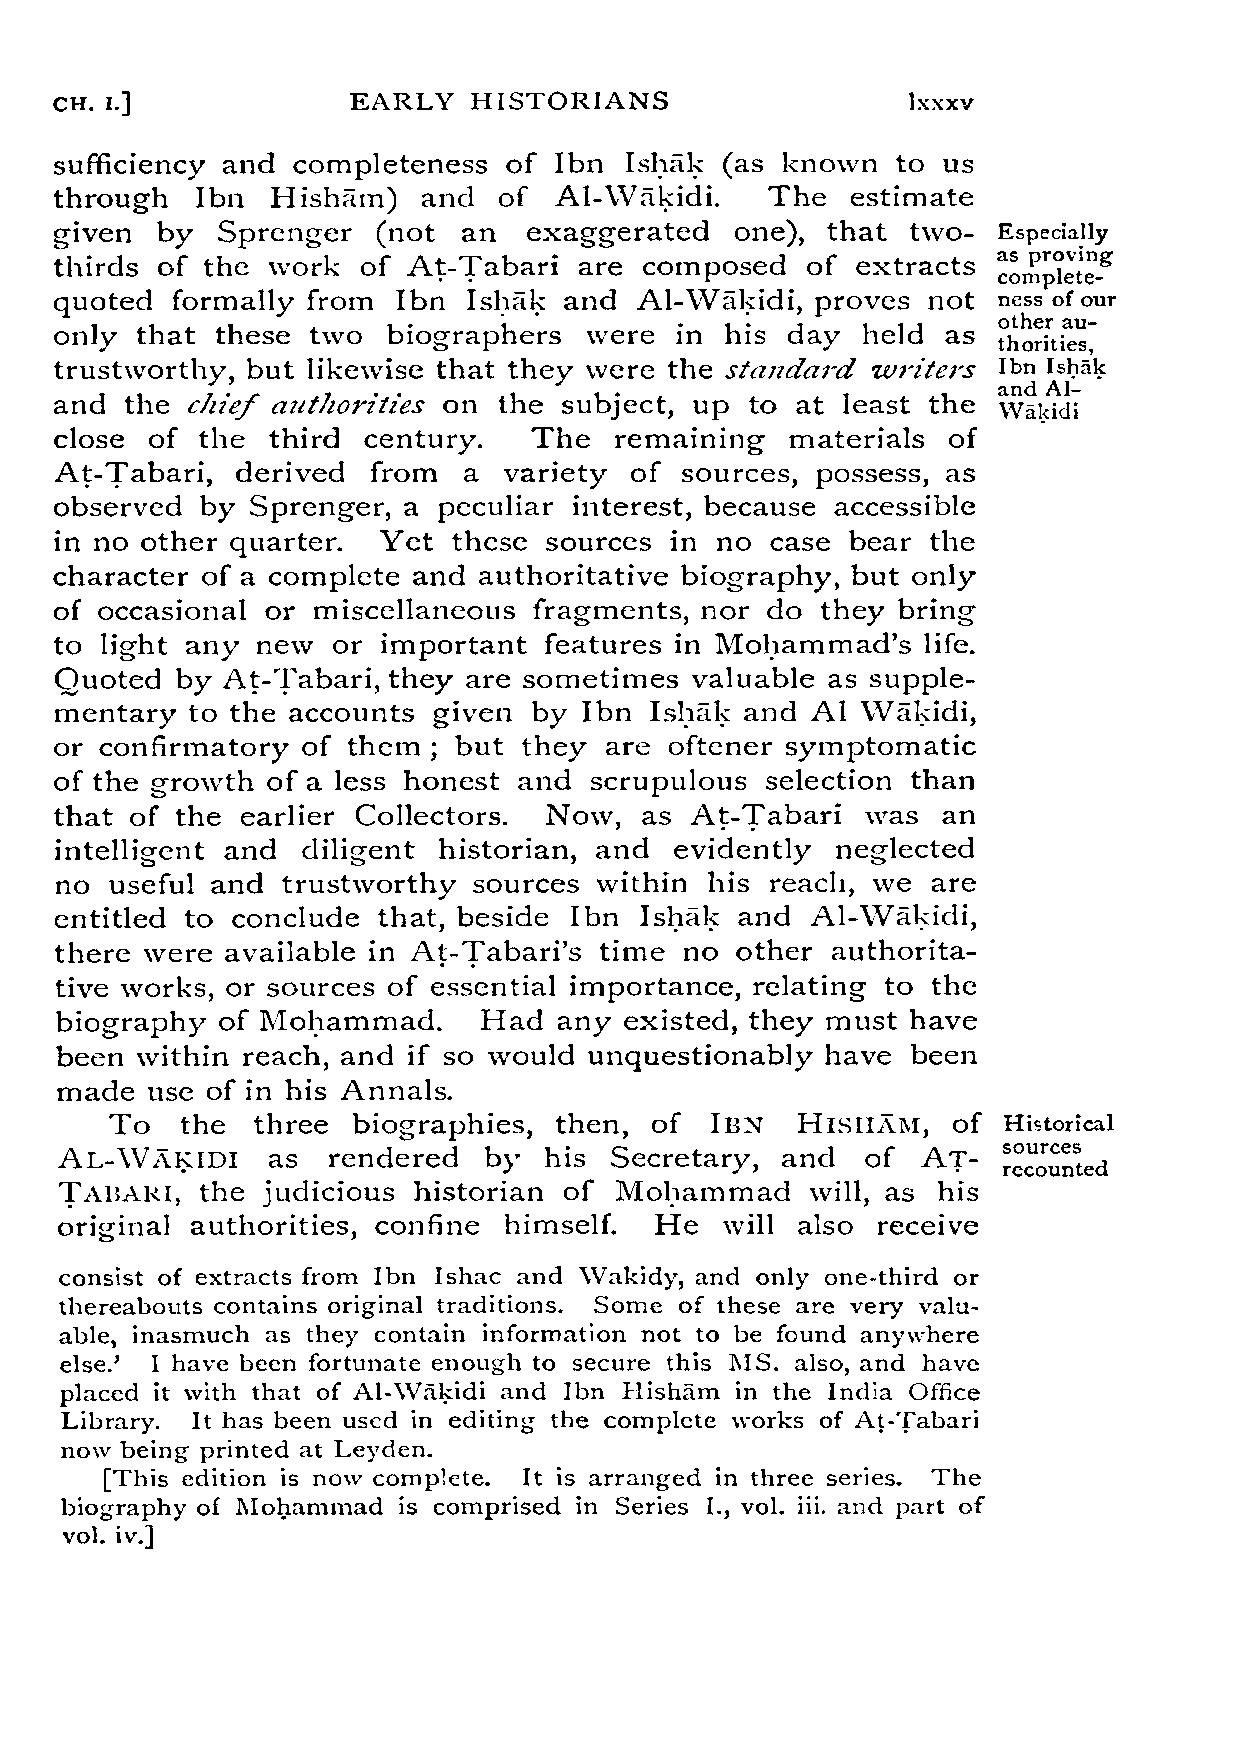content: (43, 148, 993, 1555)
content_chapter: (340, 86, 678, 115)
content_pagenumber: (900, 83, 974, 113)
